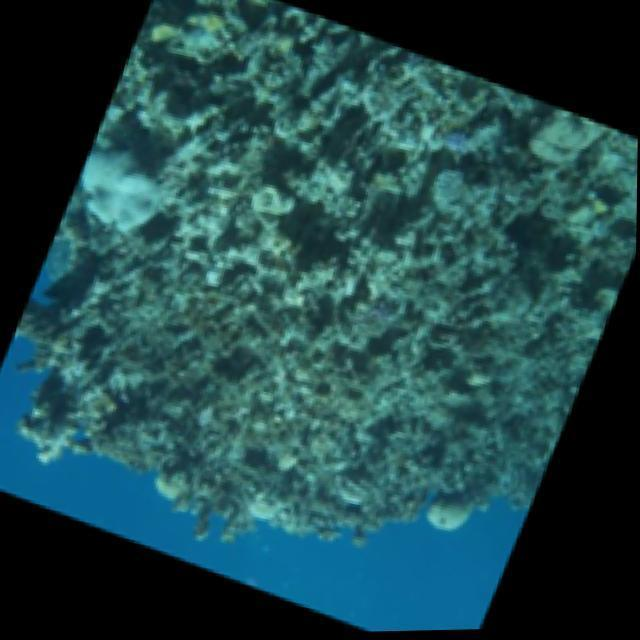Dead Coral: (224, 48, 535, 454), (0, 257, 209, 499), (64, 79, 267, 290)
